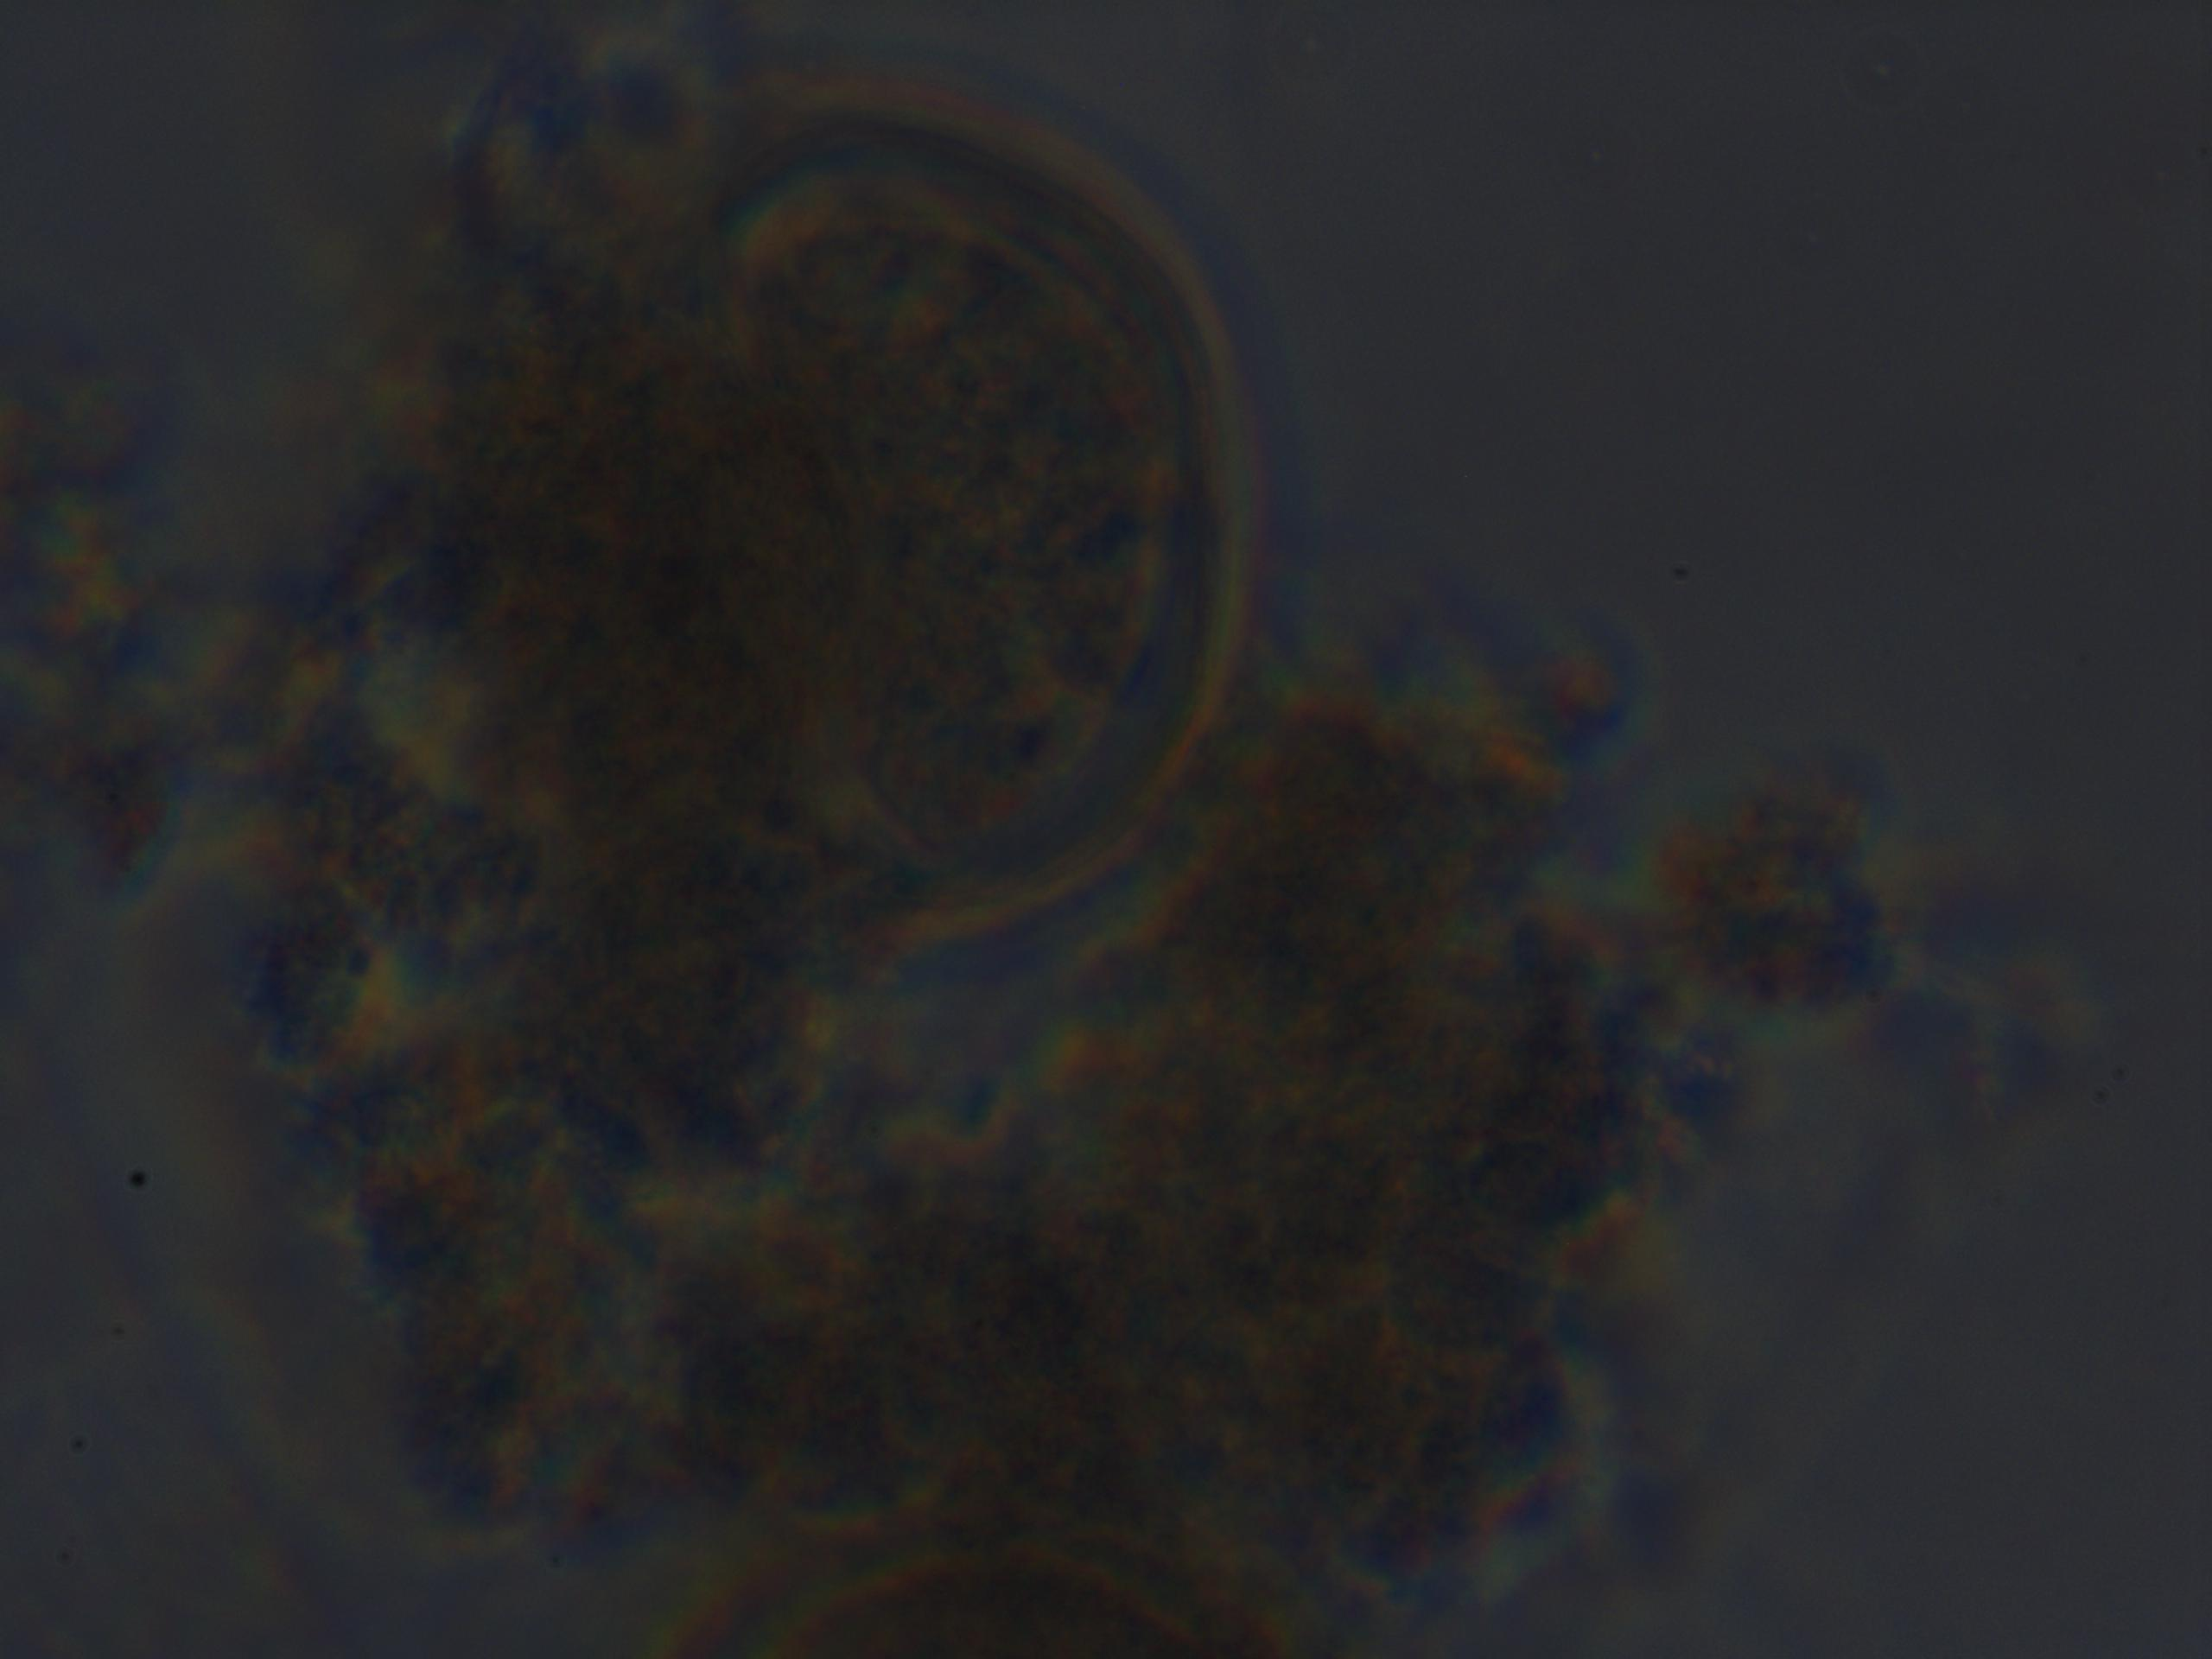protozoa: (660, 92, 1242, 943)
